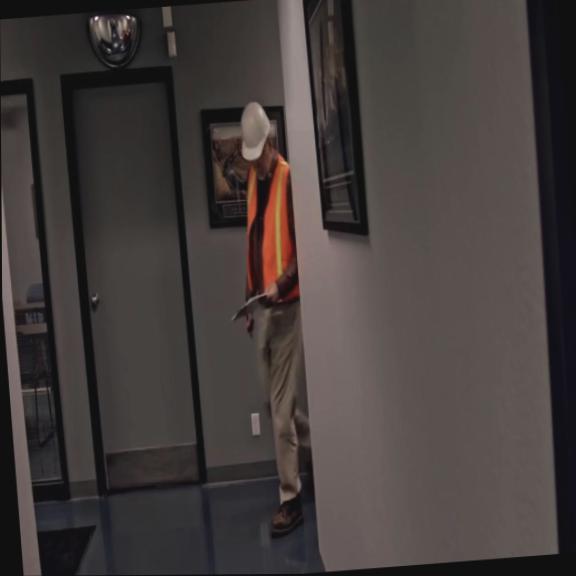safety_vest: (236, 149, 302, 307)
